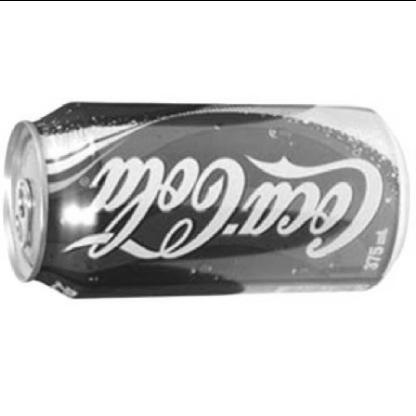alumunium_can: (1, 100, 414, 300)
